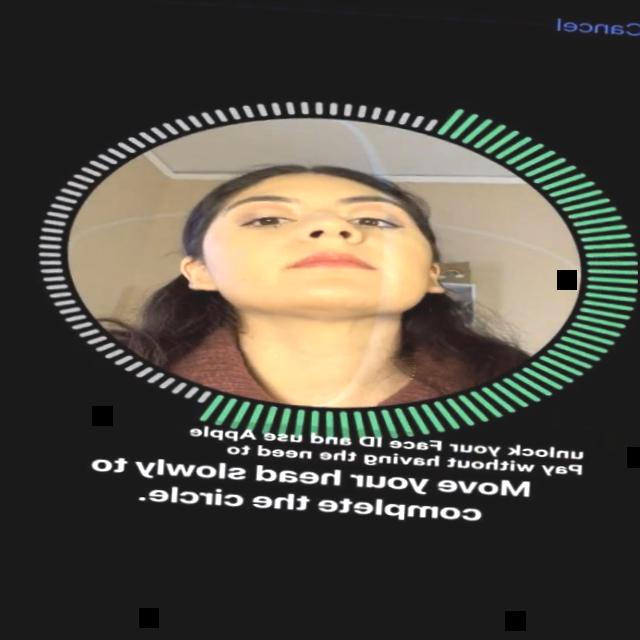NO-Mask: (173, 163, 445, 337)
